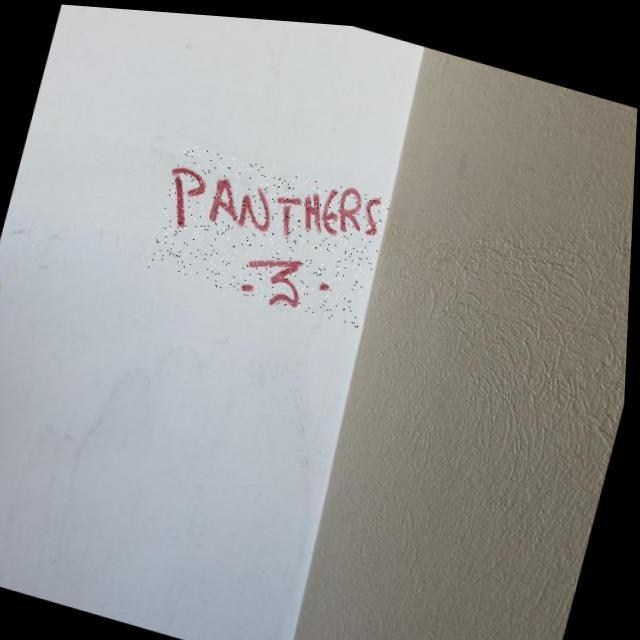-: (148, 135, 394, 323)
